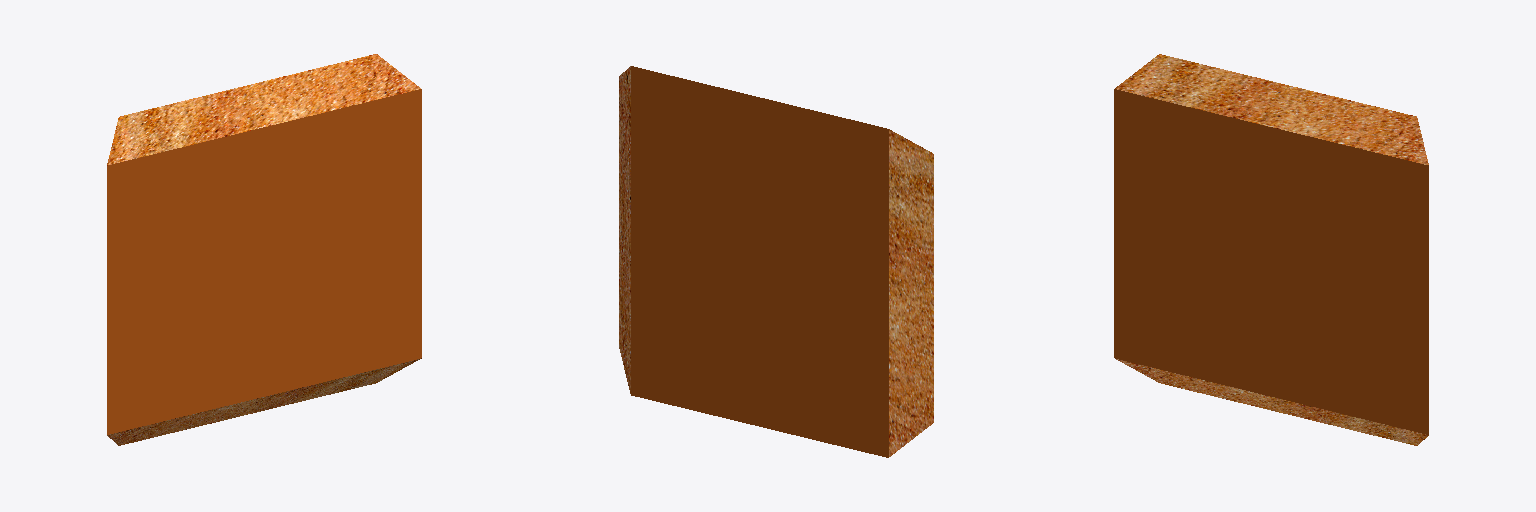
3 renders of one model, left to right at view 1: azimuth 30°, elevation 25°; view 2: azimuth 150°, elevation 25°; view 3: azimuth 330°, elevation 25°, orthographic.
Parts seen in each view (by area): view 1: Cube.006; view 2: Cube.006; view 3: Cube.006.
Boxes of the visible parts, x1,y1,x2,y2 form: Cube.006: [107, 54, 421, 445]; Cube.006: [619, 66, 933, 457]; Cube.006: [1114, 54, 1428, 445].
Bounding box in the file's own units: 2.2 × 2.2 × 0.2.
2 materials, 1 textured.